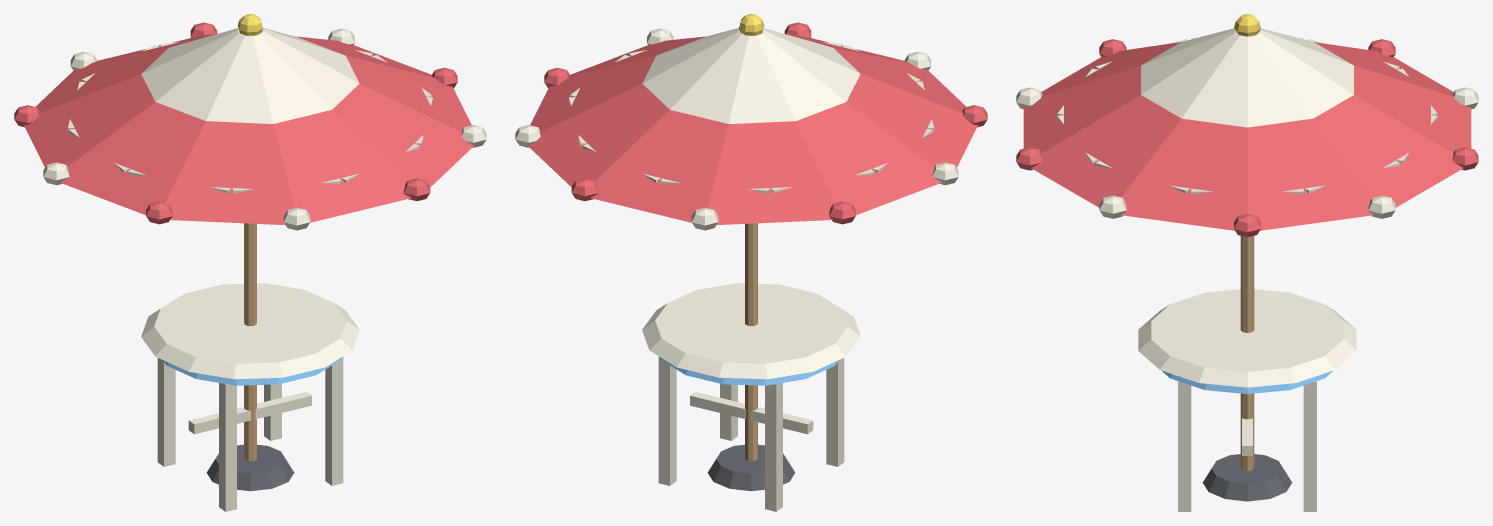
Rendered from patio-table.glb.
3 views of the same model, side by side, from view 1: azimuth 30°, elevation 25°; view 2: azimuth 150°, elevation 25°; view 3: azimuth 270°, elevation 25° (orthographic). The views are drawn at different scales.
Parts seen in each view (by area): view 1: patio-table-with-parasol; view 2: patio-table-with-parasol; view 3: patio-table-with-parasol.
Part boxes in pixels (x1,y1,x2,y2): patio-table-with-parasol: [14, 14, 486, 511]; patio-table-with-parasol: [515, 14, 987, 511]; patio-table-with-parasol: [1016, 14, 1478, 511].
Bounding box in the file's own units: 2.18 × 2.3 × 2.06.
